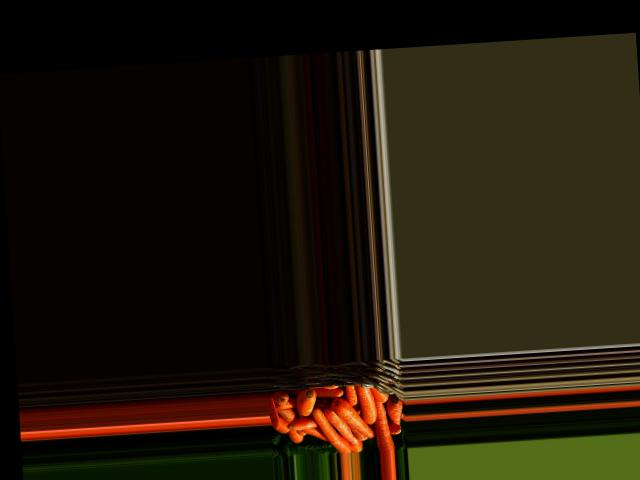carrot: (273, 388, 288, 406)
